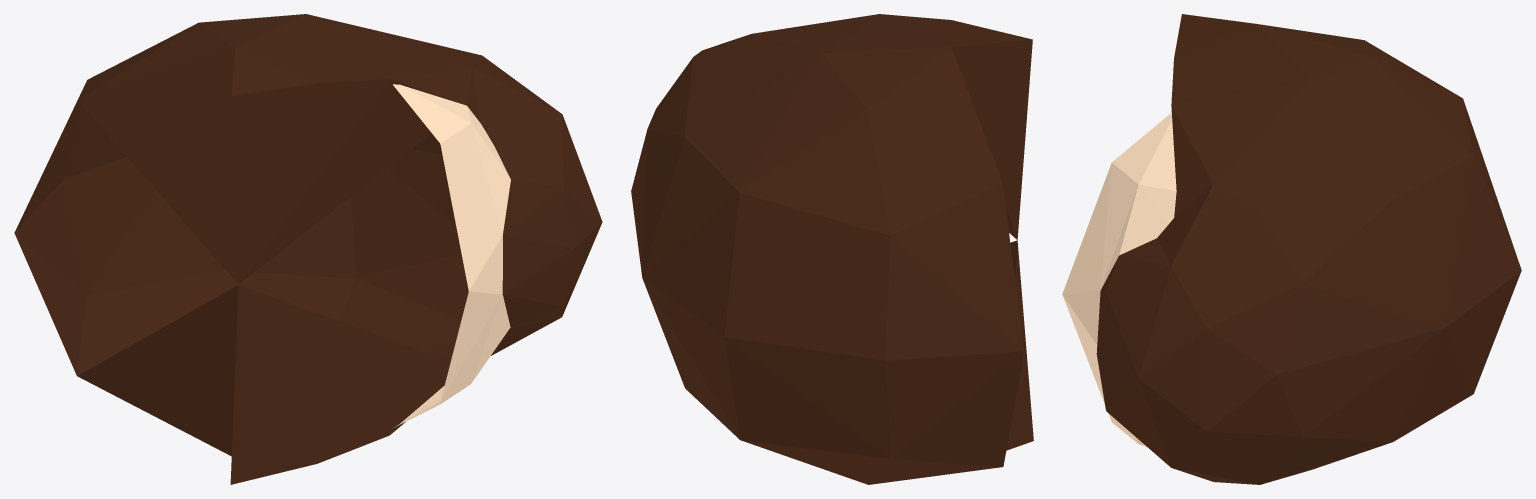
The model's file is hair9.glb.
3 renders of one model, left to right at view 1: azimuth 30°, elevation 25°; view 2: azimuth 150°, elevation 25°; view 3: azimuth 270°, elevation 25°, orthographic. The views are drawn at different scales.
Visible parts, largest first — view 1: tomodachi-2026-03-10-20-23-51-950, tomodachi-2026-03-10-20-23-51-950.008; view 2: tomodachi-2026-03-10-20-23-51-950; view 3: tomodachi-2026-03-10-20-23-51-950, tomodachi-2026-03-10-20-23-51-950.008.
Part boxes in pixels (x1,y1,x2,y2): tomodachi-2026-03-10-20-23-51-950: [14, 14, 602, 484]; tomodachi-2026-03-10-20-23-51-950.008: [392, 84, 510, 428]; tomodachi-2026-03-10-20-23-51-950: [631, 14, 1033, 484]; tomodachi-2026-03-10-20-23-51-950: [1096, 14, 1521, 484]; tomodachi-2026-03-10-20-23-51-950.008: [1062, 112, 1176, 447].
Size of the model in its own units: 1.28 by 1.1 by 1.12.
Materials: 2 (2 with a texture image).
